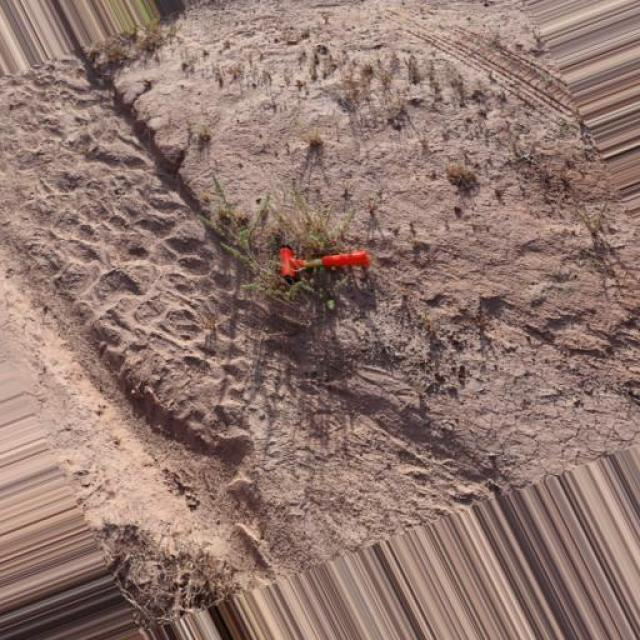mallet: (278, 245, 370, 277)
